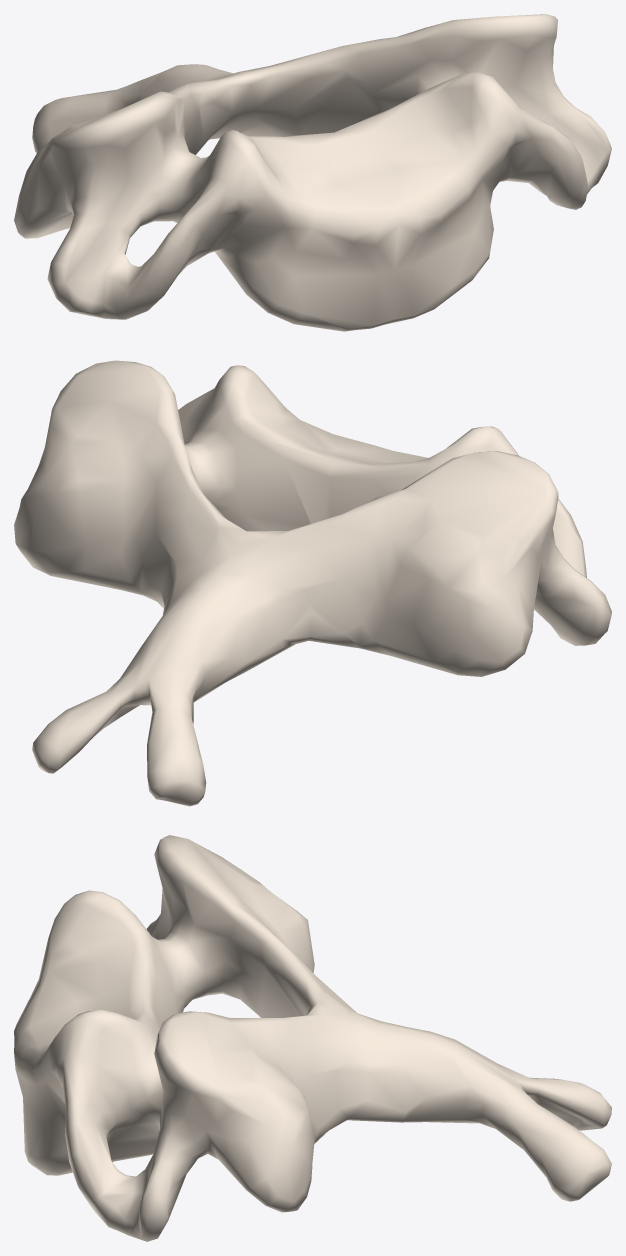
3 views of the same model, one above another, from view 1: azimuth 30°, elevation 25°; view 2: azimuth 150°, elevation 25°; view 3: azimuth 270°, elevation 25° (orthographic).
Visible parts, largest first — view 1: Cervical vertebrae (C5); view 2: Cervical vertebrae (C5); view 3: Cervical vertebrae (C5).
Boxes of the visible parts, left/top/right/bottom form: Cervical vertebrae (C5): left=14, top=14, right=611, bottom=331; Cervical vertebrae (C5): left=14, top=360, right=611, bottom=806; Cervical vertebrae (C5): left=14, top=835, right=611, bottom=1241.
Size of the model in its own units: 0.0604 by 0.0239 by 0.0562.
